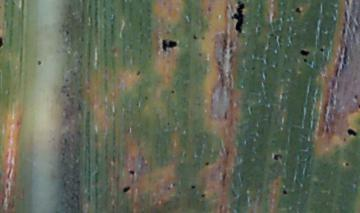tarspot: (230, 1, 247, 35), (159, 36, 180, 54), (344, 125, 360, 140), (297, 45, 311, 58), (271, 150, 284, 163), (127, 166, 137, 180), (121, 183, 132, 195), (279, 186, 290, 198), (292, 5, 304, 16), (34, 56, 44, 69), (189, 32, 200, 43), (316, 45, 327, 56), (198, 190, 208, 202), (202, 158, 212, 169), (341, 159, 352, 169), (1, 34, 7, 50), (188, 182, 197, 192), (351, 91, 360, 101), (133, 68, 143, 77), (300, 57, 311, 65), (168, 87, 176, 97)
